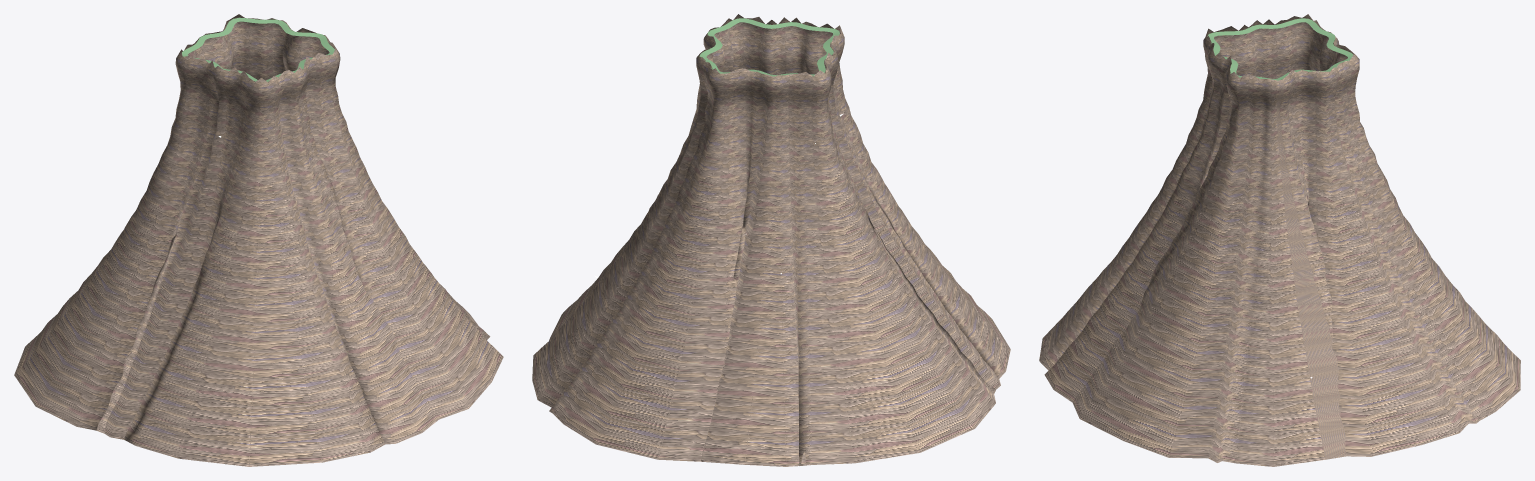
File: CliffWall_stack_10.glb
3 views of the same model, side by side, from view 1: azimuth 30°, elevation 25°; view 2: azimuth 150°, elevation 25°; view 3: azimuth 270°, elevation 25° (orthographic).
Parts seen in each view (by area): view 1: CliffWall_stack_10-rock0, CliffWall_stack_10-lip0; view 2: CliffWall_stack_10-rock0, CliffWall_stack_10-lip0; view 3: CliffWall_stack_10-rock0, CliffWall_stack_10-lip0.
Boxes of the visible parts, box(x1,y1,x2,y2) form: CliffWall_stack_10-rock0: box(14, 14, 503, 466); CliffWall_stack_10-lip0: box(182, 17, 334, 81); CliffWall_stack_10-rock0: box(532, 14, 1010, 466); CliffWall_stack_10-lip0: box(699, 18, 839, 76); CliffWall_stack_10-rock0: box(1039, 14, 1520, 466); CliffWall_stack_10-lip0: box(1207, 18, 1353, 80).
Bounding box in the file's own units: 628 × 456 × 621.
Materials: 4 (1 with a texture image).
